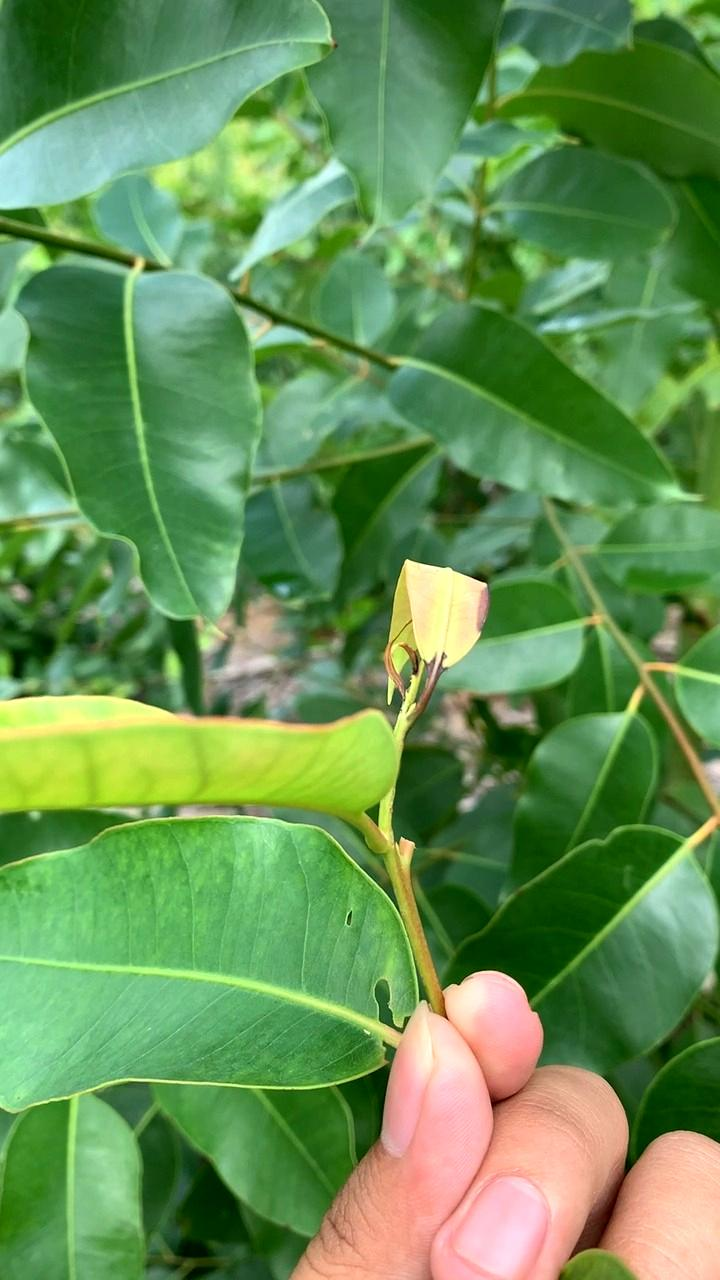Helopeltis-Withered Sprout: (375, 556, 493, 749)
